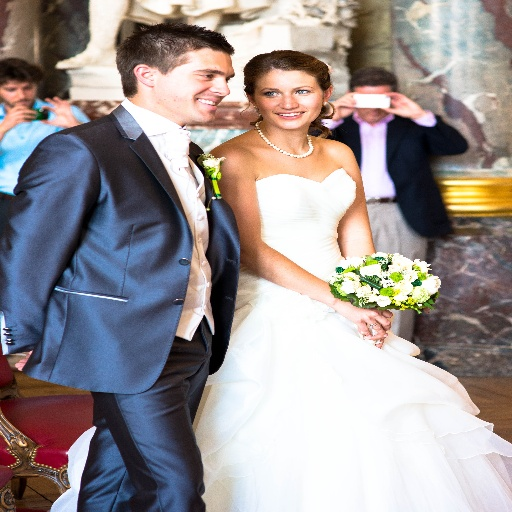hand: (363, 305, 394, 348), (39, 95, 80, 127), (379, 91, 422, 117), (0, 102, 39, 129), (324, 92, 356, 121), (12, 349, 35, 372)
